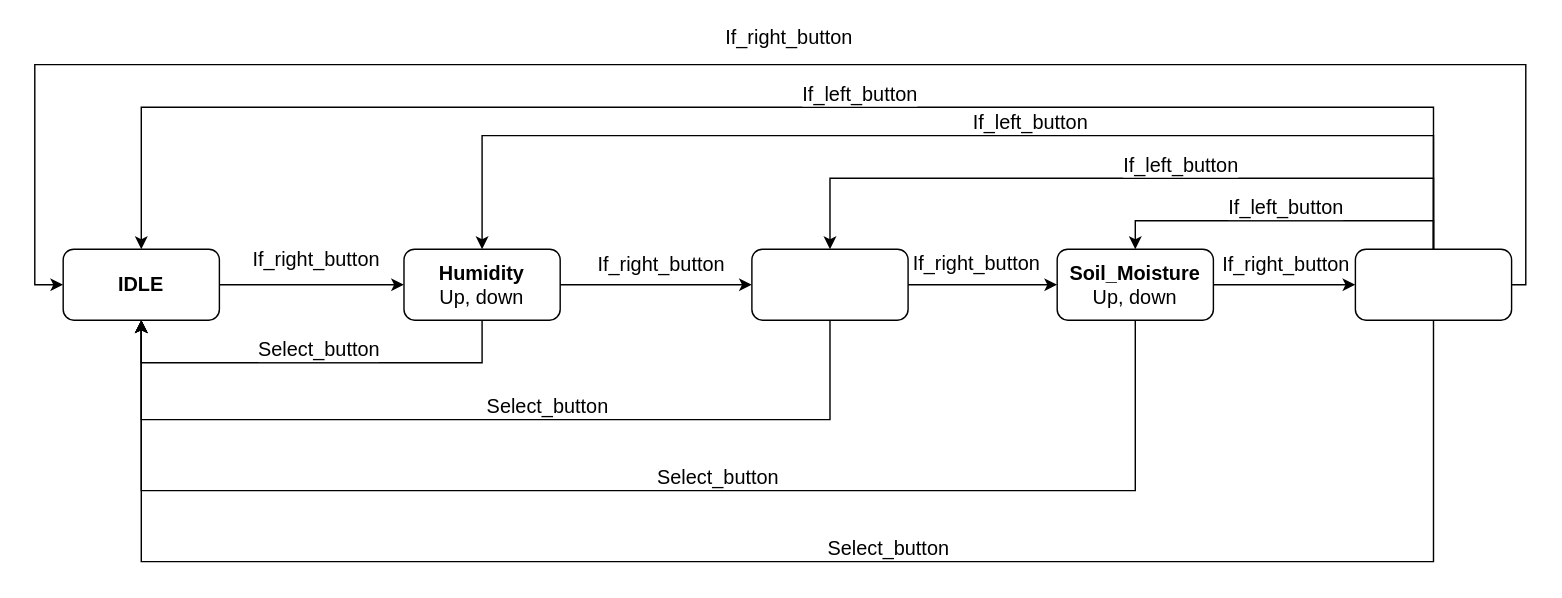
Image size: 1562x598. Some labels were removed from this diagram. Here are the shapes that lost their labels. From the top down, the box of each, then its label:
(750, 248, 908, 320): Temperature Up, down
(1354, 248, 1512, 320): Light_Level Up, down
